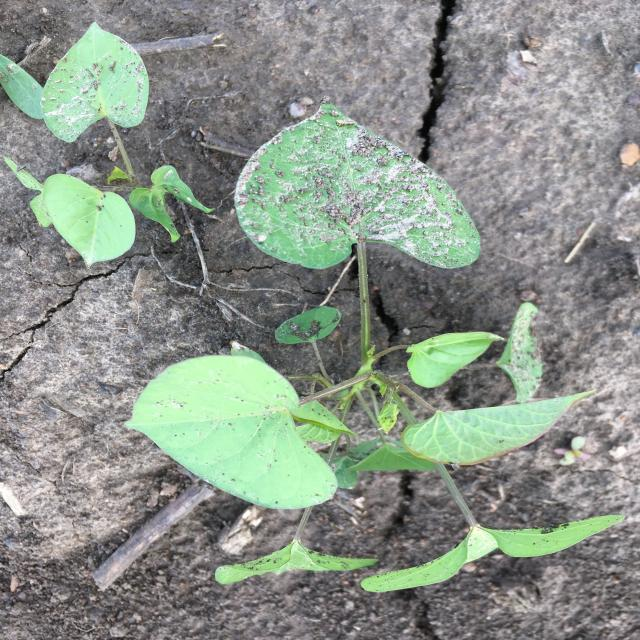MorningGlory: (124, 97, 626, 593), (3, 22, 216, 270)
